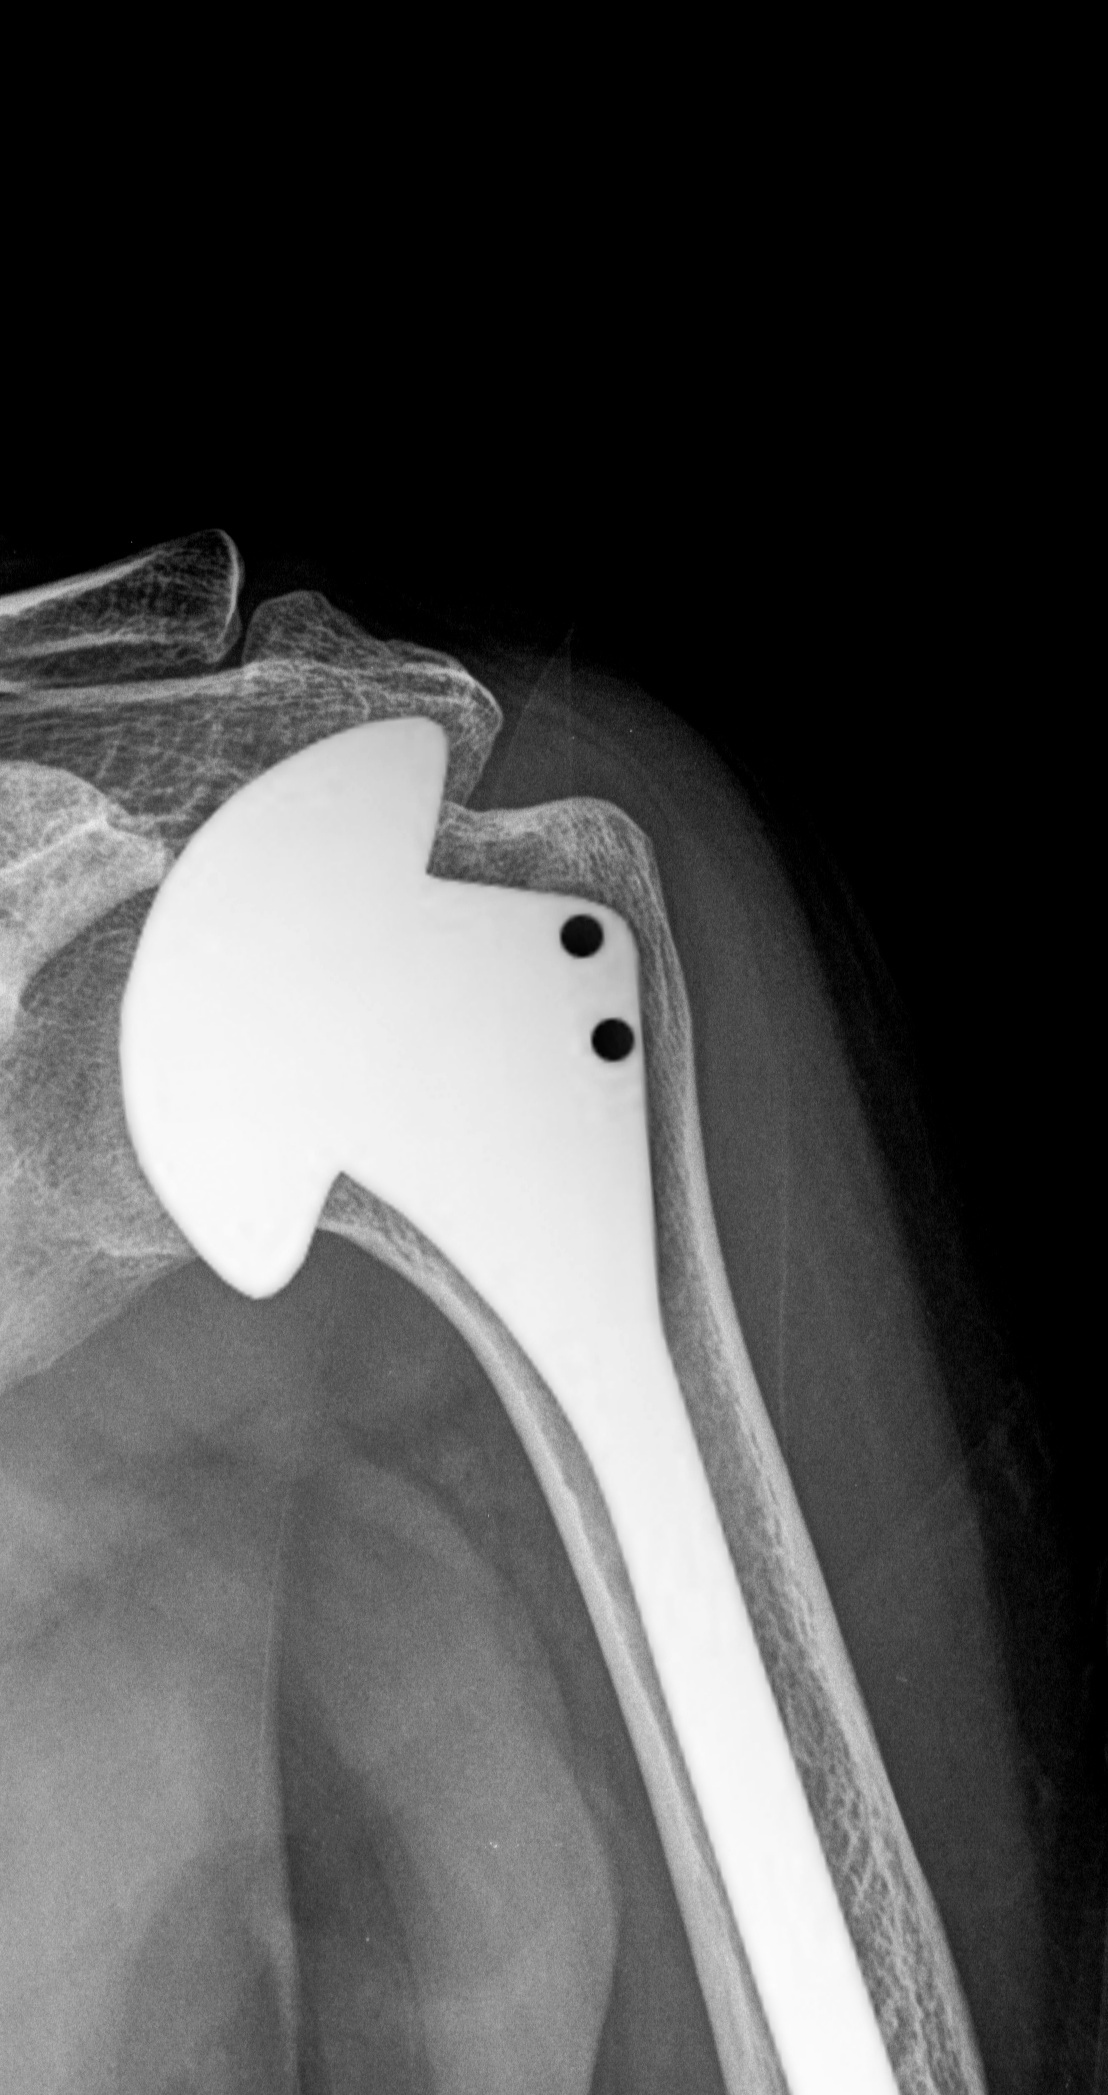Shoulder - Aequalishead - Tornier: (102, 686, 496, 1311)
Shoulder - Aequalistail - Tornier: (256, 698, 715, 1404)
